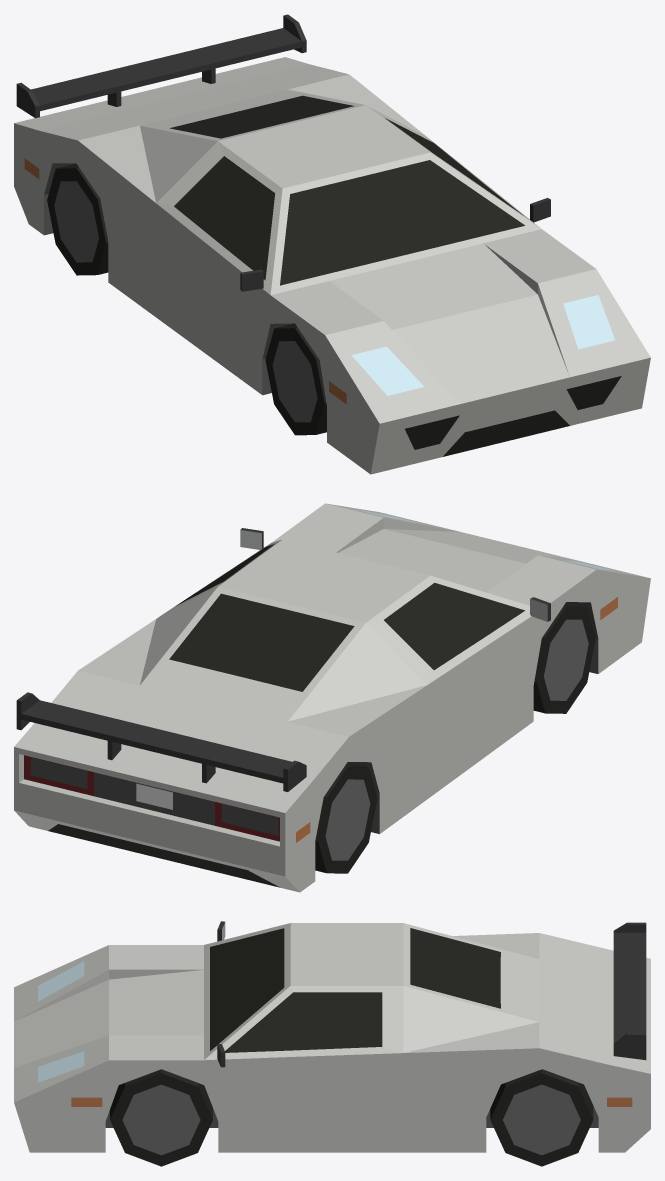
The model's file is Veh_Sports_Car_03_White.obj.
The picture shows the model from 3 angles, top to bottom: view 1: azimuth 30°, elevation 25°; view 2: azimuth 150°, elevation 25°; view 3: azimuth 270°, elevation 25°; orthographic projection. The views are drawn at different scales.
Bounding box in the file's own units: 1.25 × 0.6867 × 2.56.
